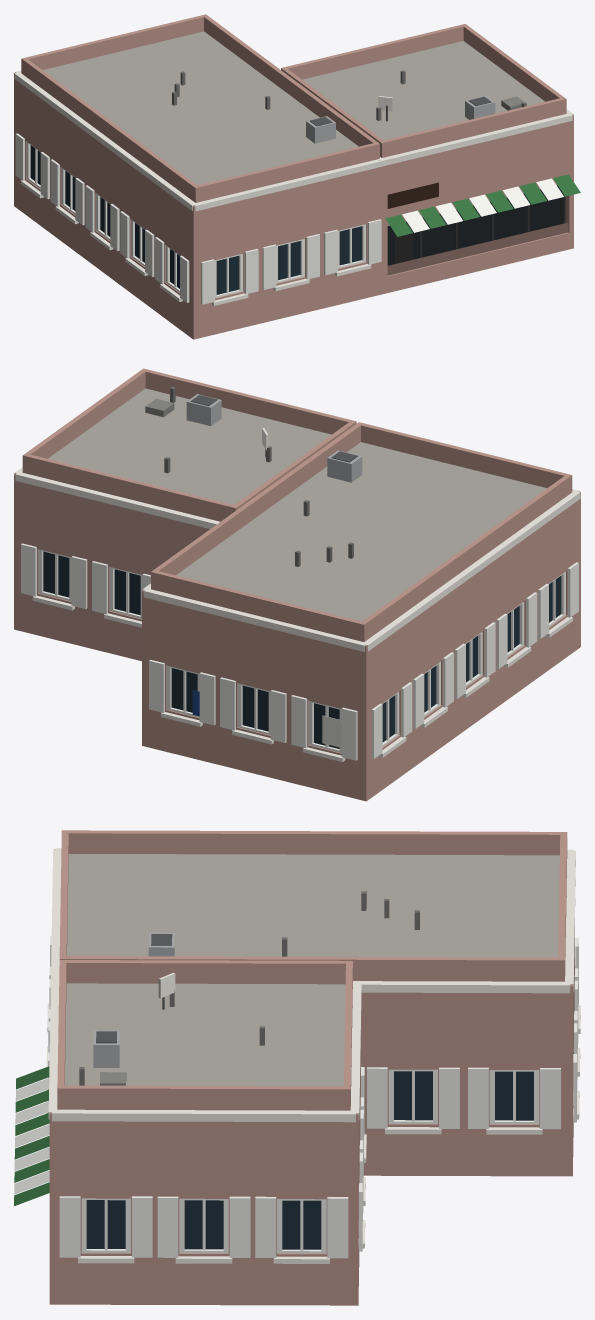
3 views of the same model, one above another, from view 1: azimuth 30°, elevation 25°; view 2: azimuth 150°, elevation 25°; view 3: azimuth 270°, elevation 25° (orthographic). The views are drawn at different scales.
Parts seen in each view (by area): view 1: b1004_opaque, b1004_glass; view 2: b1004_opaque, b1004_glass; view 3: b1004_opaque, b1004_glass.
Part boxes in pixels (left/top/right/bottom): b1004_opaque: left=14, top=14, right=580, bottom=339; b1004_glass: left=30, top=145, right=563, bottom=294; b1004_opaque: left=14, top=368, right=580, bottom=801; b1004_glass: left=43, top=551, right=561, bottom=748; b1004_opaque: left=14, top=830, right=580, bottom=1305; b1004_glass: left=86, top=1071, right=533, bottom=1249.
Bounding box in the file's own units: 7377 × 2864 × 6527.
